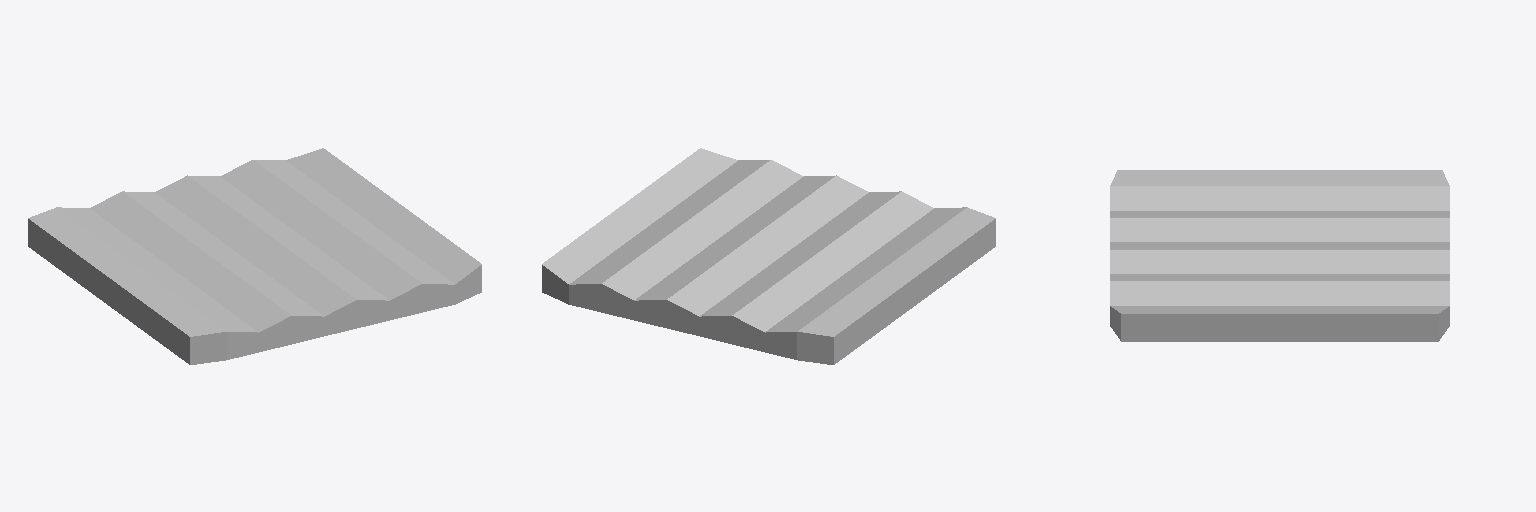
File: Ground.obj
The picture shows the model from 3 angles: view 1: azimuth 30°, elevation 25°; view 2: azimuth 150°, elevation 25°; view 3: azimuth 270°, elevation 25°; orthographic projection.
Visible parts, largest first — view 1: Plane; view 2: Plane; view 3: Plane.
Part boxes in pixels (left/top/right/bottom): Plane: left=28, top=148, right=481, bottom=364; Plane: left=542, top=148, right=995, bottom=364; Plane: left=1110, top=170, right=1449, bottom=341.
Bounding box in the file's own units: 2 × 0.1872 × 2.